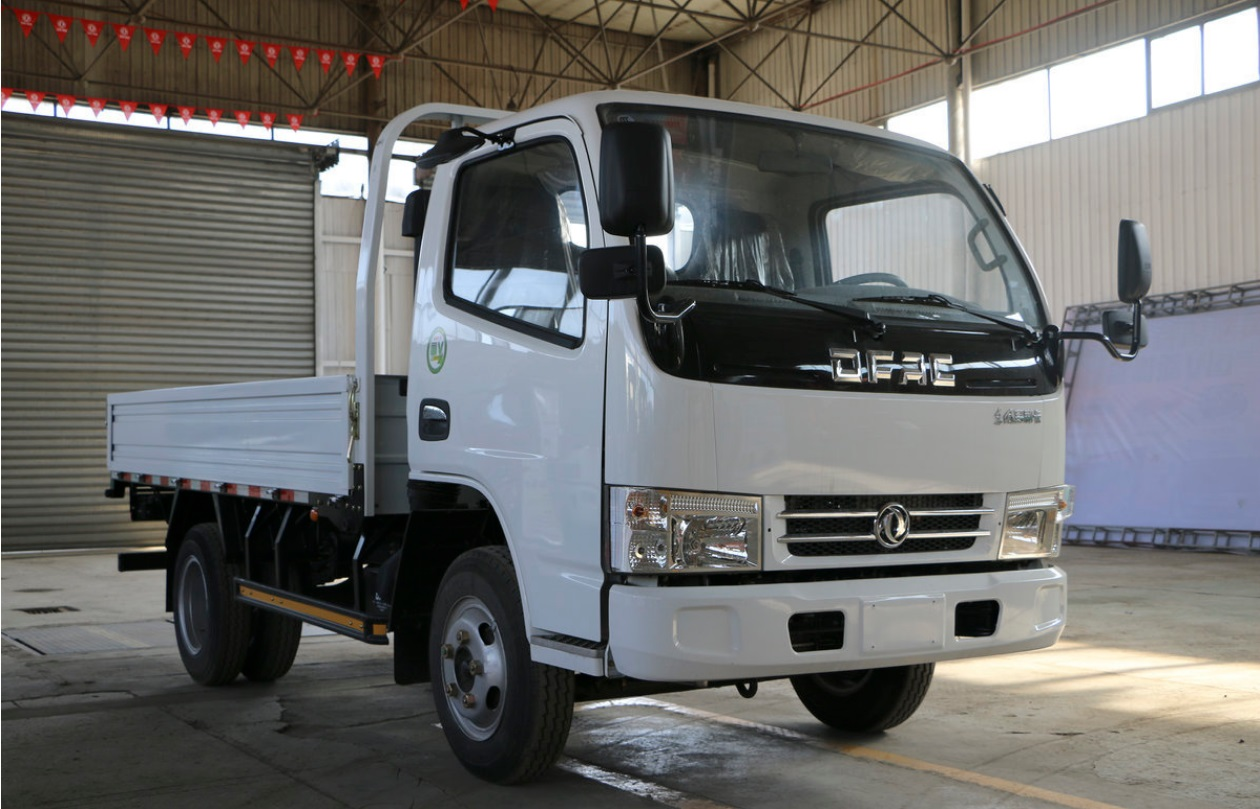truck: (104, 86, 1159, 778)
